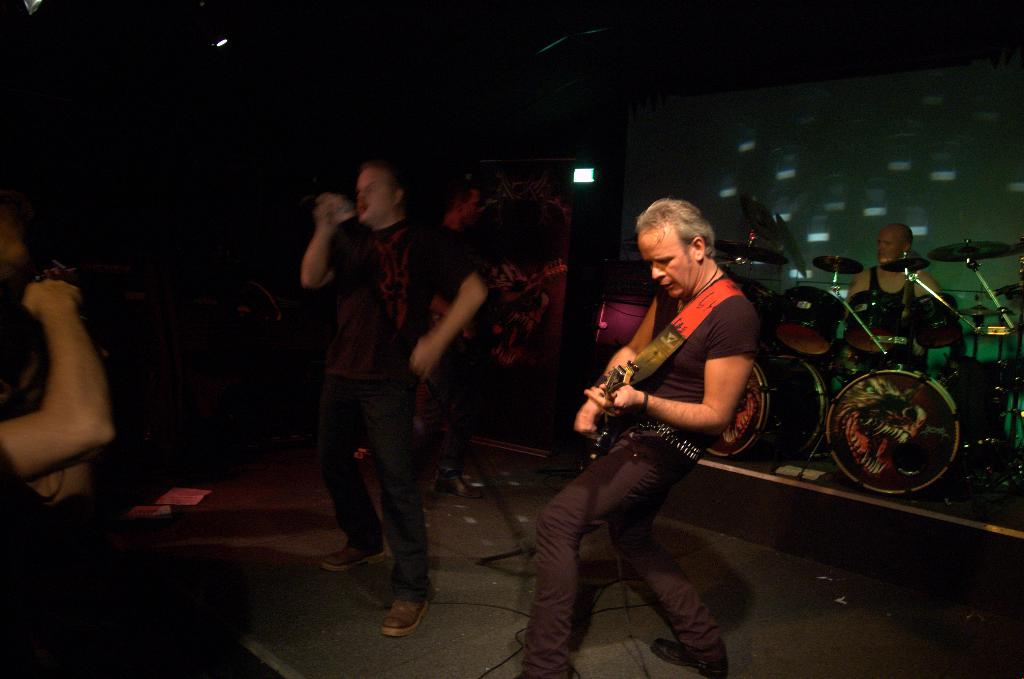Human_hand: (20, 276, 85, 318), (584, 373, 637, 408), (317, 191, 358, 234), (409, 336, 443, 382), (572, 405, 594, 442)
